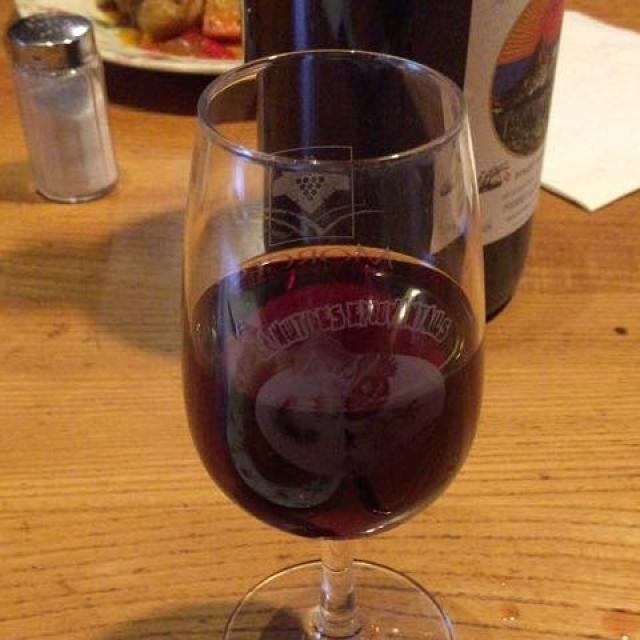wine: (207, 253, 466, 525)
